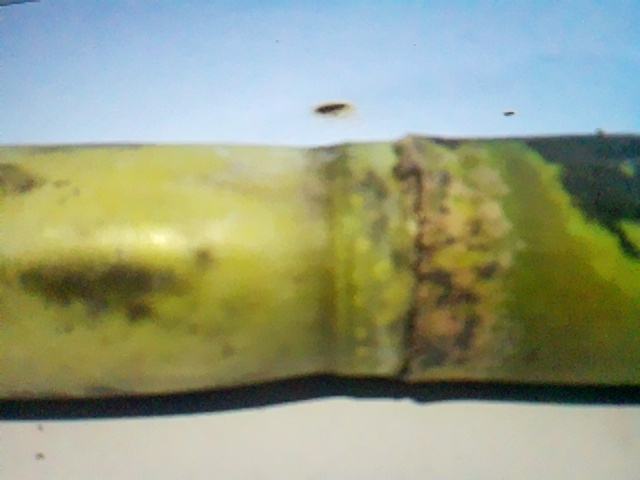Good Sugarcane: (0, 125, 635, 401)
Node: (300, 130, 496, 389)
